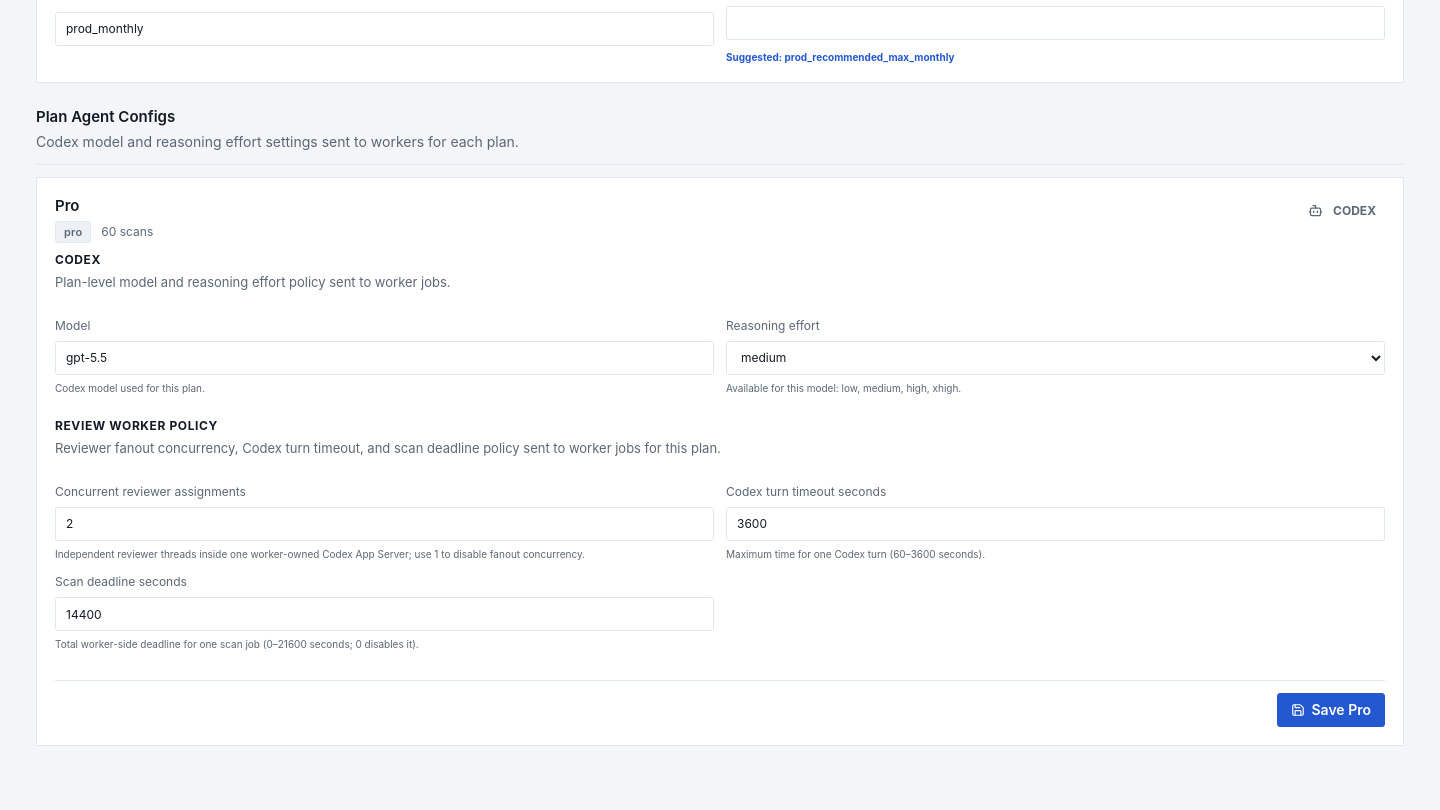
Test: PlansScreen › blocks saving when a plan timeout is blank instead of sending a default
(page scrolled)
Expected: the heading "Pro" is shown, [55,196,79,214]
Clear the number field named "Pro Codex turn timeout seconds" at (1056, 524), box [726,506,1385,540]
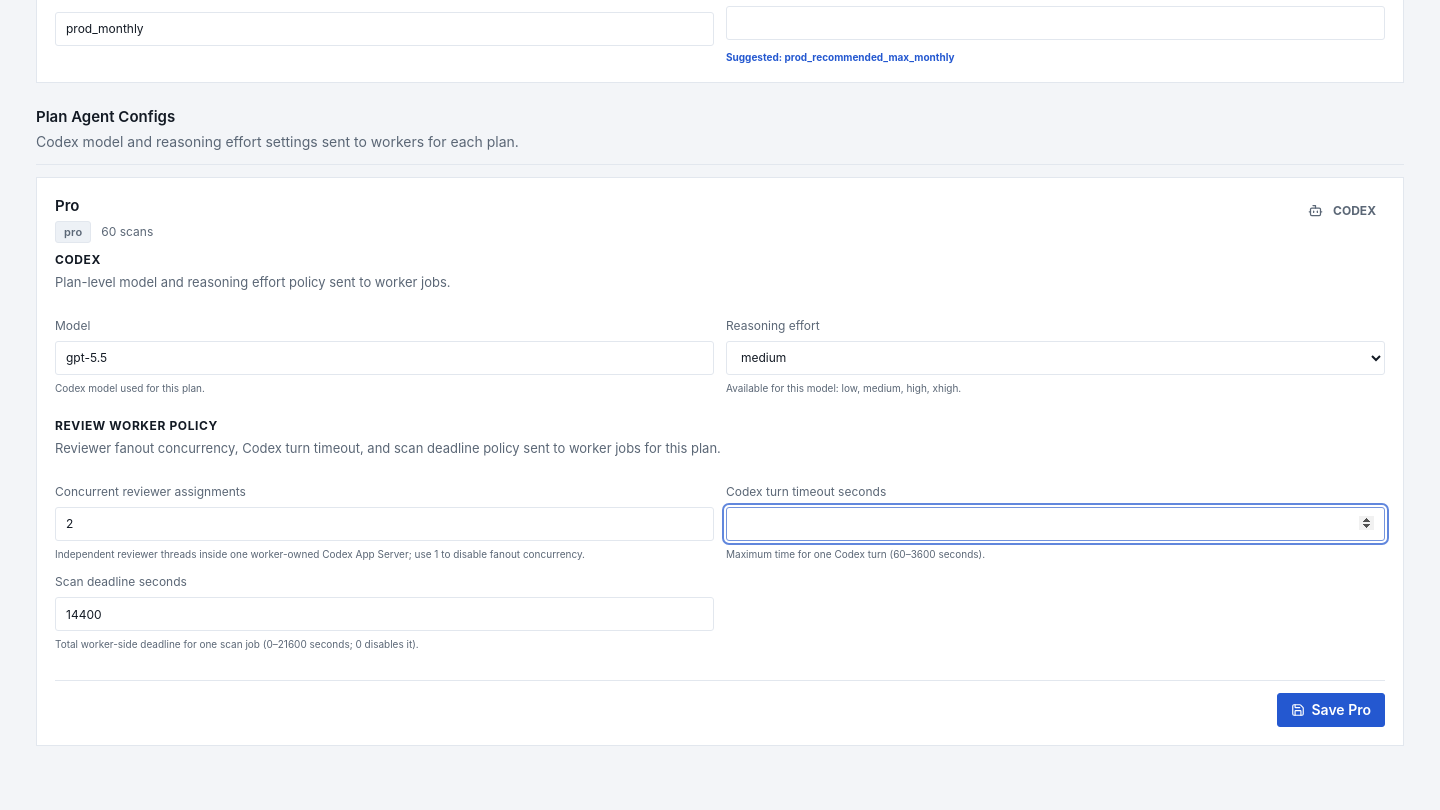
Click the button "Save Pro".
click(1331, 710)  # box [1276,692,1385,726]
(page scrolled)
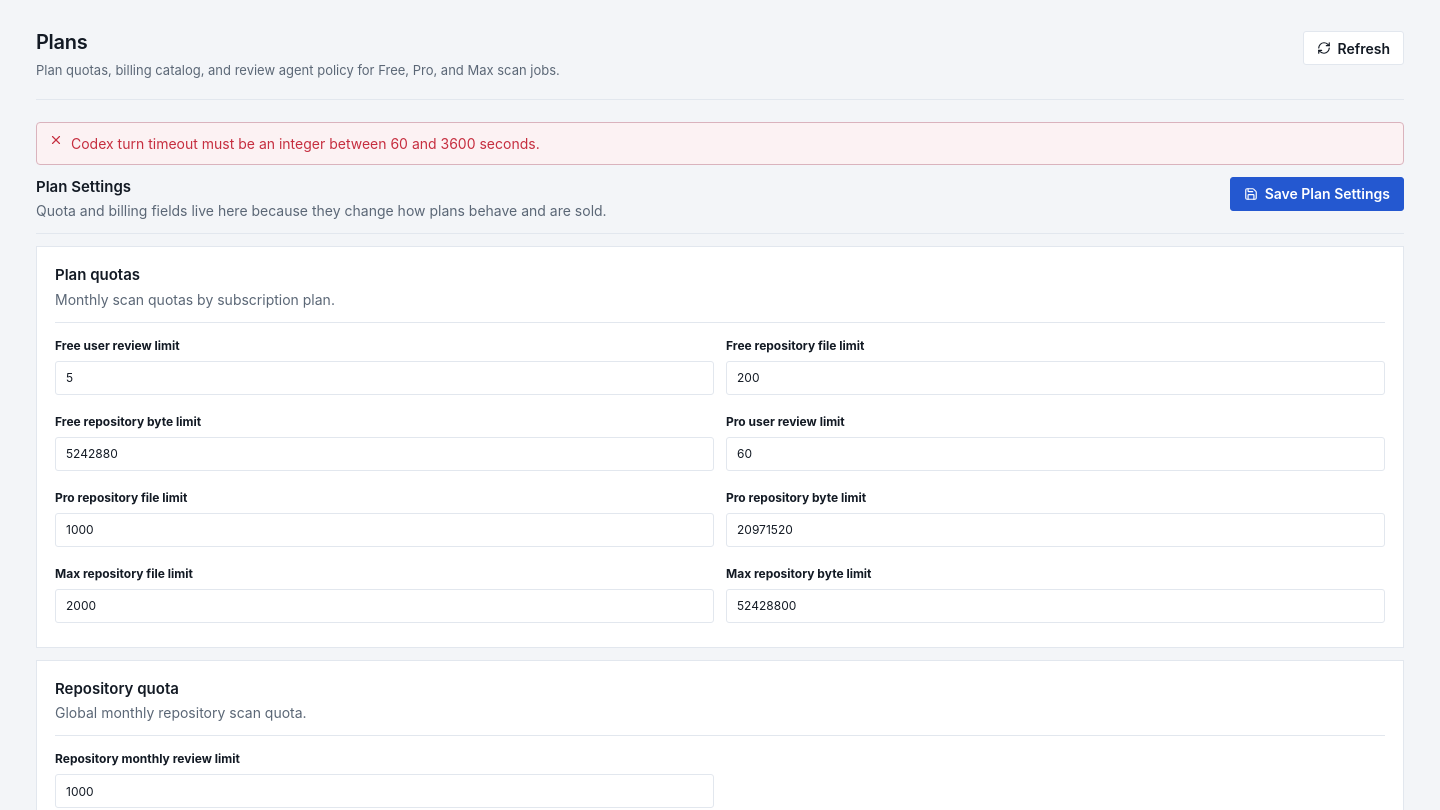
Result: the message reads "Codex turn timeout must be an integer between 60 and 3600 seconds." at [71,134,540,152]
